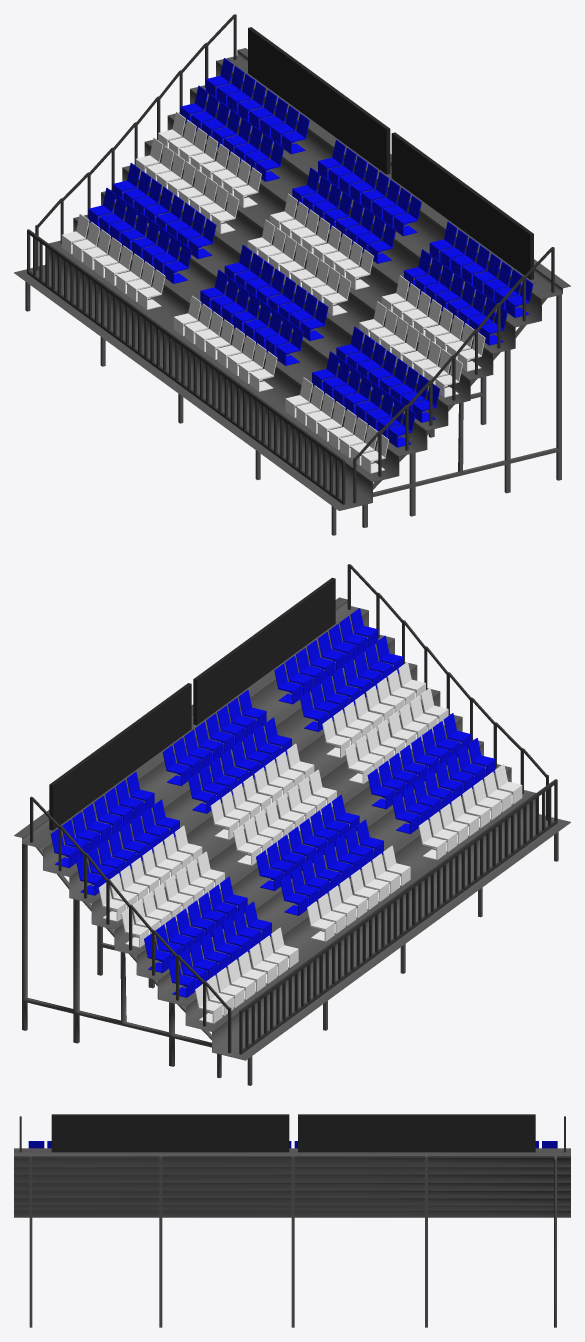
The model's file is AsS.fbx.
3 renders of one model, top to bottom at view 1: azimuth 30°, elevation 25°; view 2: azimuth 150°, elevation 25°; view 3: azimuth 270°, elevation 25°, orthographic. The views are drawn at different scales.
Visible parts, largest first — view 1: polySurface39, polySurface172, polySurface15, polySurface24, polySurface167, polySurface180, polySurface74; view 2: polySurface39, polySurface172, polySurface24, polySurface15, polySurface36, polySurface74, polySurface180; view 3: polySurface39, polySurface24, polySurface15, polySurface139, polySurface160, polySurface167, polySurface36, polySurface105.
Part boxes in pixels (<box>): polySurface39: <box>14,48,570,510</box>; polySurface172: <box>27,229,345,504</box>; polySurface15: <box>248,27,390,174</box>; polySurface24: <box>391,132,533,279</box>; polySurface167: <box>331,294,561,535</box>; polySurface180: <box>353,247,554,503</box>; polySurface74: <box>35,14,236,270</box>; polySurface39: <box>14,597,570,1060</box>; polySurface172: <box>239,779,557,1054</box>; polySurface24: <box>193,577,335,725</box>; polySurface15: <box>49,683,191,830</box>; polySurface36: <box>22,844,252,1085</box>; polySurface74: <box>30,796,231,1053</box>; polySurface180: <box>347,564,548,820</box>; polySurface39: <box>14,1148,570,1217</box>; polySurface24: <box>51,1114,289,1152</box>; polySurface15: <box>298,1114,535,1152</box>; polySurface139: <box>291,1156,294,1327</box>; polySurface160: <box>159,1156,162,1327</box>; polySurface167: <box>29,1156,32,1327</box>; polySurface36: <box>554,1156,556,1327</box>; polySurface105: <box>425,1156,427,1327</box>.
Bounding box in the file's own units: 28.3 × 28.01 × 68.73.
